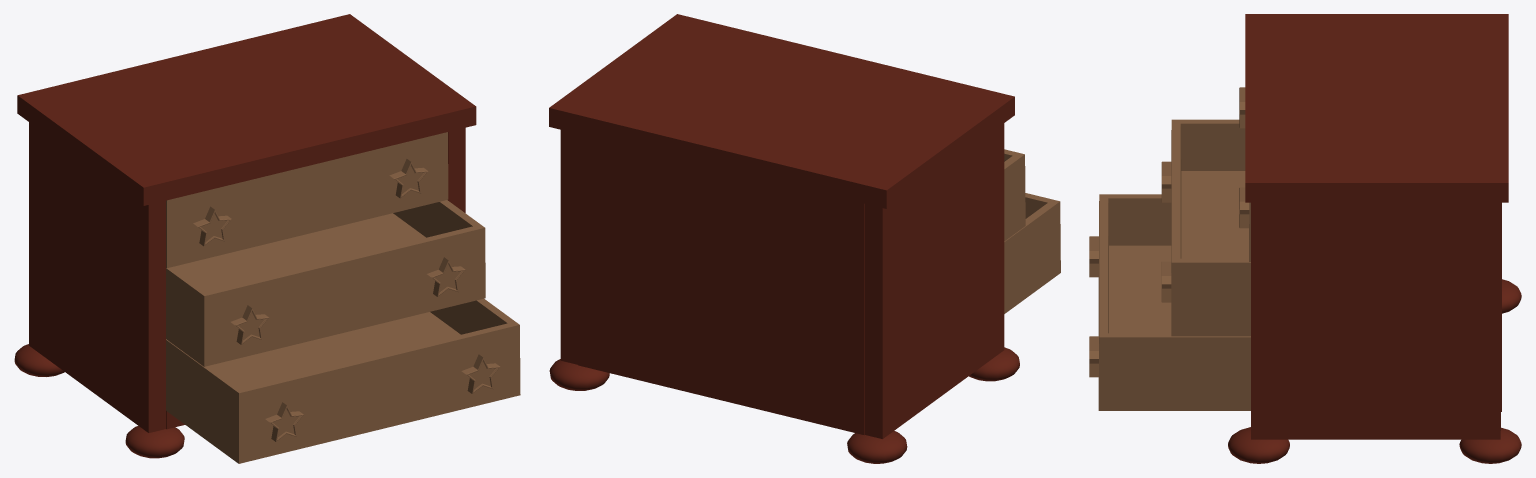
The model's file is drawer.gltf.
The picture shows the model from 3 angles, left to right: view 1: azimuth 30°, elevation 25°; view 2: azimuth 150°, elevation 25°; view 3: azimuth 270°, elevation 25°; orthographic projection. The views are drawn at different scales.
Visible parts, largest first — view 1: drawer, drawer.002, drawer.001, drawer.003; view 2: drawer, drawer.002, drawer.001; view 3: drawer, drawer.002, drawer.001, drawer.003.
Boxes of the visible parts, bbox=[...] form: drawer: bbox=[14, 14, 476, 458]; drawer.002: bbox=[166, 298, 520, 463]; drawer.001: bbox=[166, 200, 485, 366]; drawer.003: bbox=[166, 132, 448, 268]; drawer: bbox=[549, 14, 1019, 463]; drawer.002: bbox=[1004, 193, 1060, 313]; drawer.001: bbox=[1004, 149, 1025, 240]; drawer: bbox=[1228, 14, 1521, 463]; drawer.002: bbox=[1089, 194, 1250, 410]; drawer.001: bbox=[1161, 119, 1250, 336]; drawer.003: bbox=[1239, 87, 1250, 261].
Size of the model in its own units: 0.8743 by 0.6663 by 0.9112.
